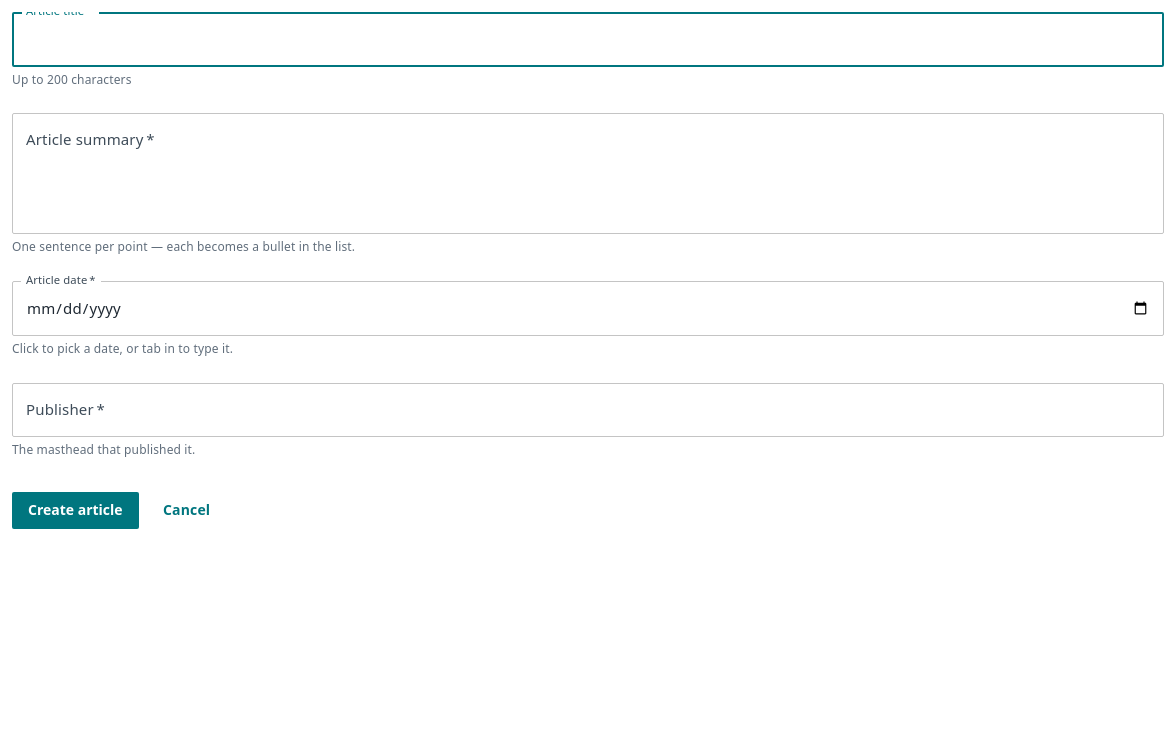
Test: ArticleForm — required fields › blocks submission and shows a message for every empty field
Click the button "Create article" at point(75, 511), box [12,492,139,529]
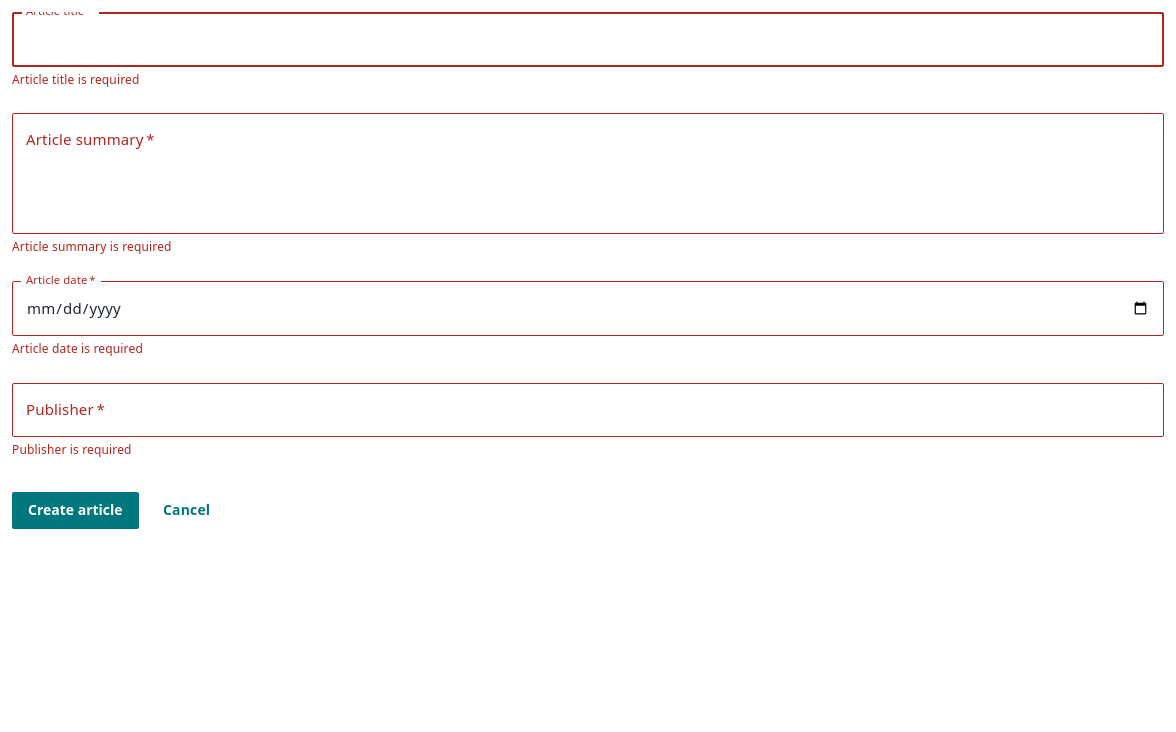
Expected: the text "Article title is required" is shown, [12,71,140,88]
Expected: the text "Article summary is required" is shown, [12,238,172,256]
Expected: the text "Article date is required" is shown, [12,340,143,357]
